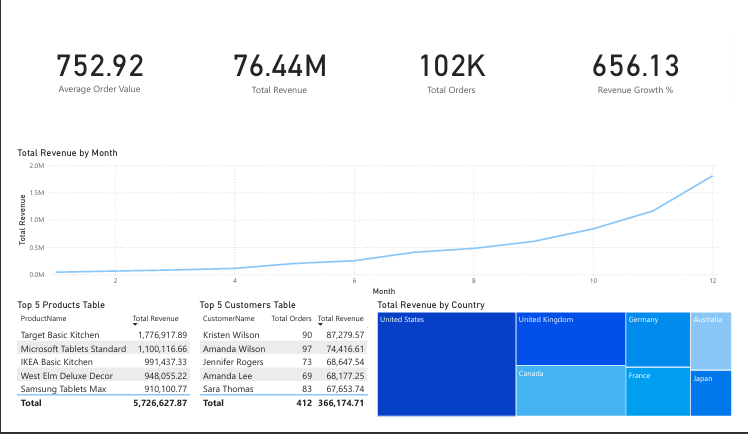

What the dashboard file says about the page in this screenshot:
{"tool":"powerbi","page":{"name":"Executive Summary","canvas":[1280,720],"ordinal":0},"visuals":[{"type":"card","fields":{"Values":["_Measures.Average Order Value"]},"box":[0,0,302.4,191.5],"z":0},{"type":"card","fields":{"Values":["_Measures.Total Revenue"]},"box":[301.7,0,338.3,191.7],"z":1000},{"type":"card","fields":{"Values":["_Measures.Total Orders"]},"box":[600,0,353.3,191.7],"z":2000},{"type":"card","fields":{"Values":["_Measures.Revenue Growth %"]},"box":[953.3,0,301.7,191.7],"z":3000},{"type":"lineChart","fields":{"Category":["calendar.Month"],"Y":["_Measures.Total Revenue"]},"box":[0,236.9,1256.5,270.4],"z":4000},{"type":"tableEx","title":"Top 5 Products Table","fields":{"Values":["products.ProductName","_Measures.Total Revenue"]},"box":[0,507.3,324.2,213.3],"z":5000},{"type":"tableEx","title":"Top 5 Customers Table","fields":{"Values":["customers.CustomerName","_Measures.Total Orders","_Measures.Total Revenue"]},"box":[324.2,507.3,315.8,213.3],"z":6000},{"type":"treemap","fields":{"Group":["customers.Country"],"Values":["_Measures.Total Revenue"]},"box":[640,507.3,640,213.3],"z":7000}]}

Visuals, with their boxes on the page's 1280x720 design canvas (x1, y1, x2, y2). These are canvas units, not pixel positions in the 748x434 screenshot, which may show the page scaled, cropped or inside an application window:
card - _Measures.Average Order Value: <bbox>0, 0, 302, 192</bbox>
card - _Measures.Total Revenue: <bbox>302, 0, 640, 192</bbox>
card - _Measures.Total Orders: <bbox>600, 0, 953, 192</bbox>
card - _Measures.Revenue Growth %: <bbox>953, 0, 1255, 192</bbox>
lineChart - calendar.Month x _Measures.Total Revenue: <bbox>0, 237, 1256, 507</bbox>
"Top 5 Products Table" tableEx: <bbox>0, 507, 324, 721</bbox>
"Top 5 Customers Table" tableEx: <bbox>324, 507, 640, 721</bbox>
treemap - customers.Country x _Measures.Total Revenue: <bbox>640, 507, 1280, 721</bbox>
